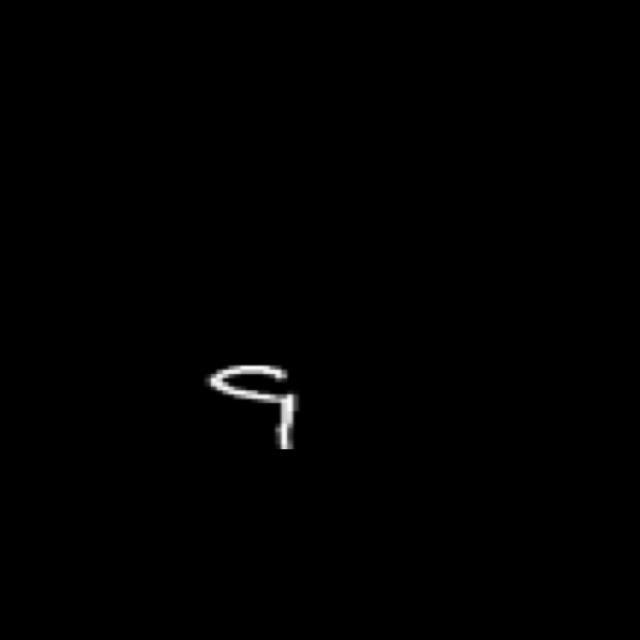nine -9-: (202, 356, 309, 460)
